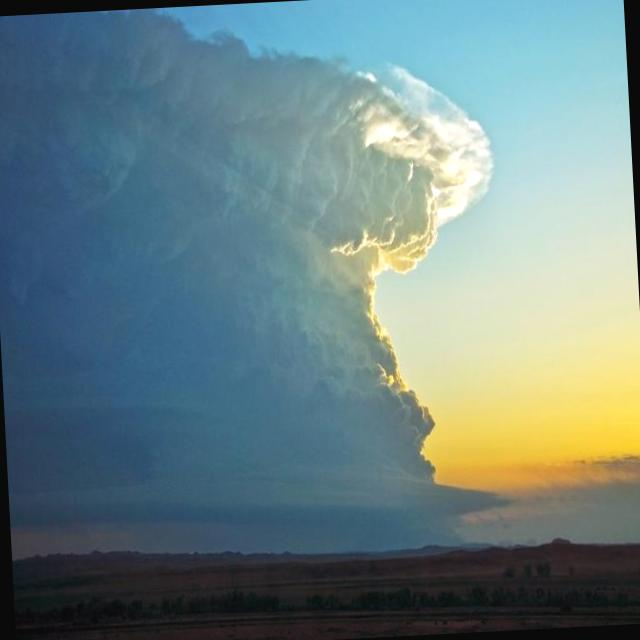cumulonimbus: (0, 0, 561, 552)
